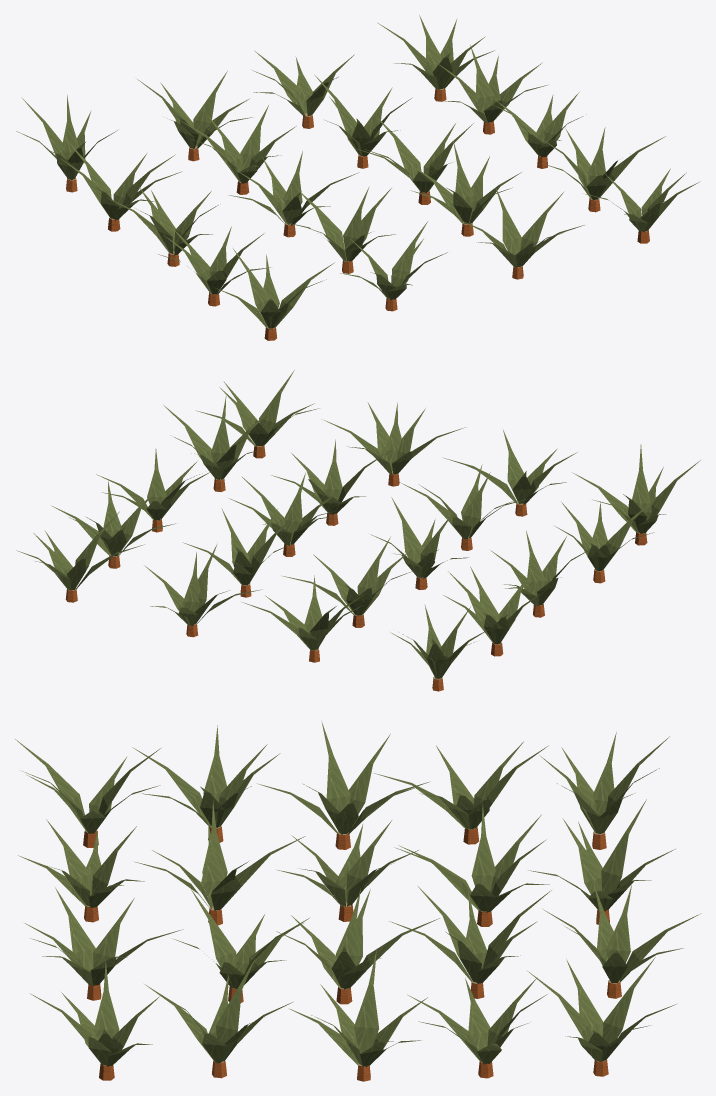
The model's file is crop_carrot_grown.obj.
3 renders of one model, top to bottom at view 1: azimuth 30°, elevation 25°; view 2: azimuth 150°, elevation 25°; view 3: azimuth 270°, elevation 25°, orthographic. The views are drawn at different scales.
Visible parts, largest first — view 1: crop_carrot_grown; view 2: crop_carrot_grown; view 3: crop_carrot_grown.
Boxes of the visible parts, x1,y1,x2,y2 form: crop_carrot_grown: [16, 15, 700, 340]; crop_carrot_grown: [16, 370, 700, 691]; crop_carrot_grown: [15, 721, 701, 1081].
Bounding box in the file's own units: 1.85 × 0.2744 × 1.73.
Materials: 1 (1 with a texture image).
